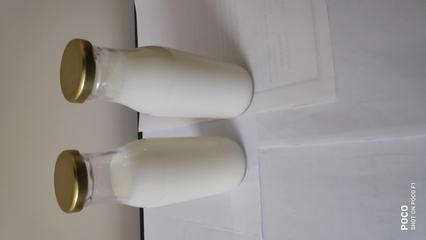milk: (56, 36, 252, 124), (56, 130, 249, 202)
